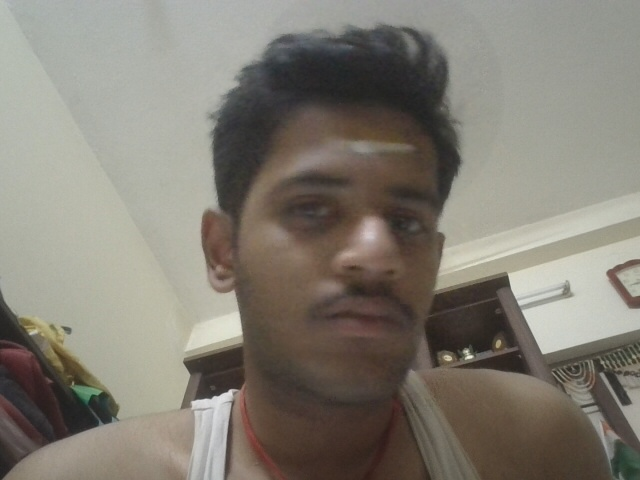real: (218, 100, 497, 379)
